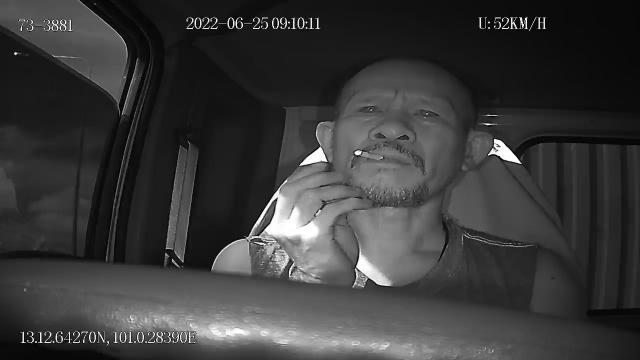SafeDriving: (350, 94, 390, 123), (406, 100, 448, 126)
Smoking: (353, 150, 383, 162)
